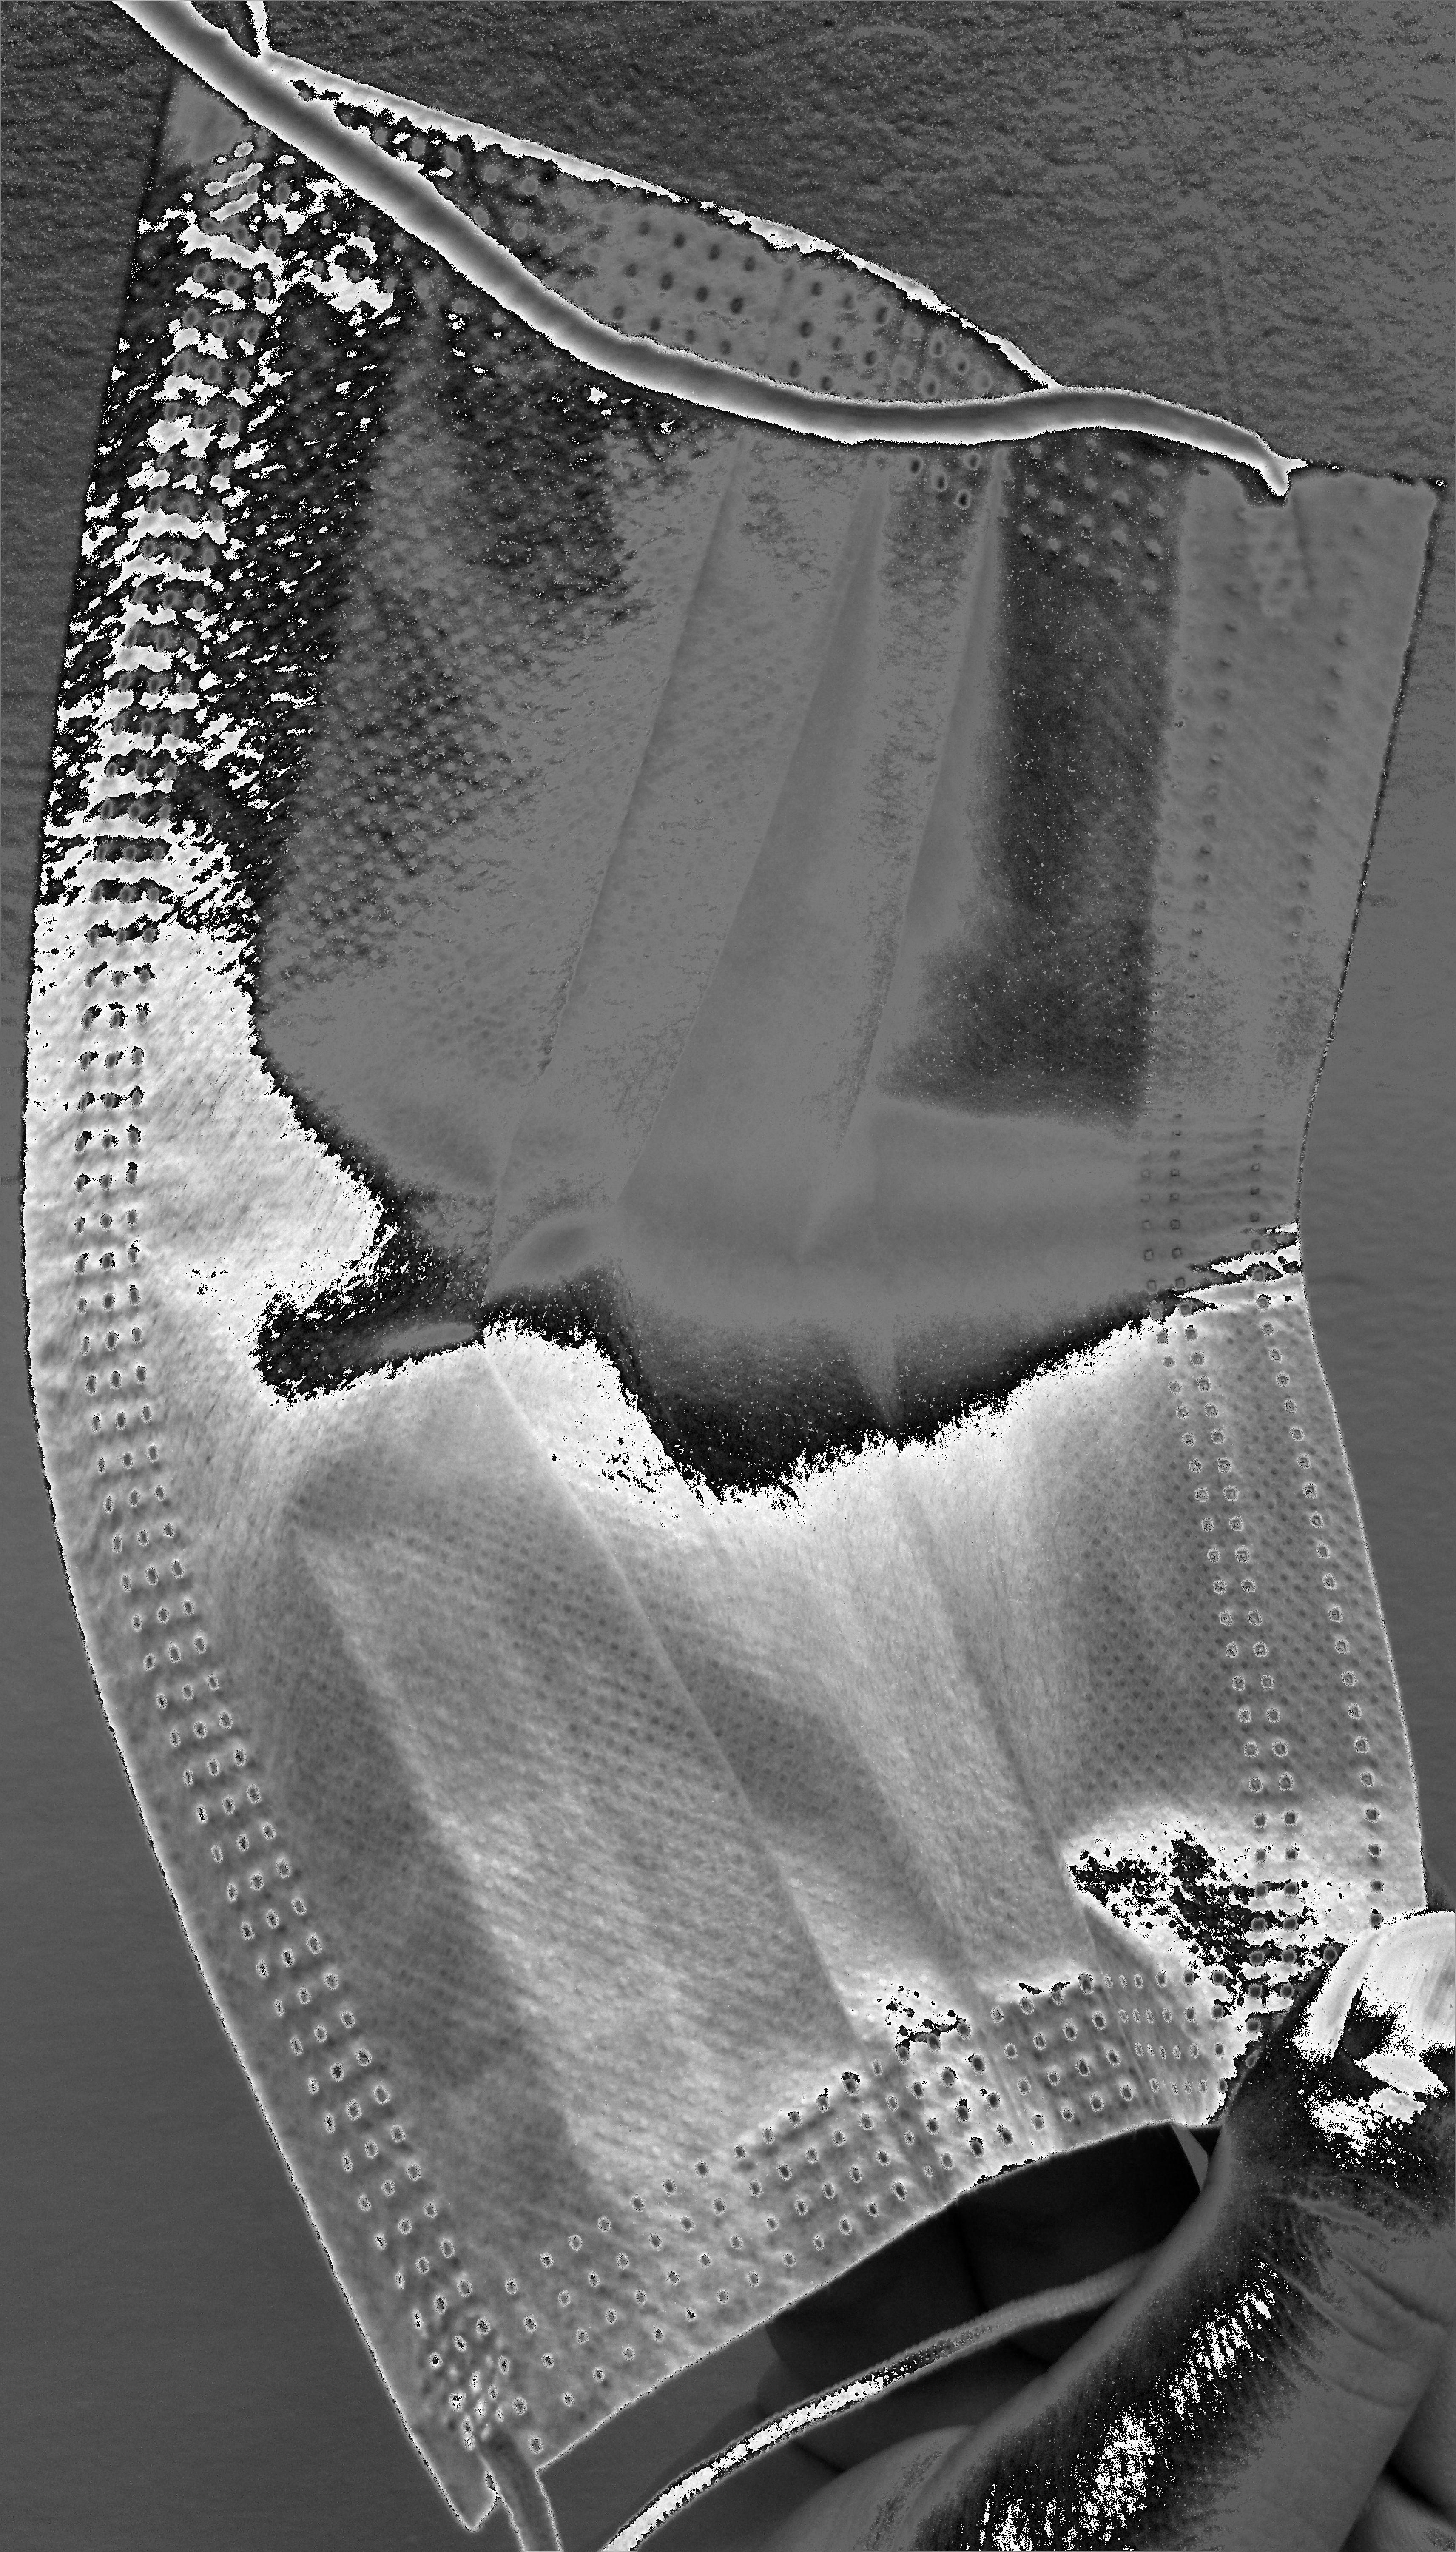Low GSM: (370, 617, 1085, 1954)
